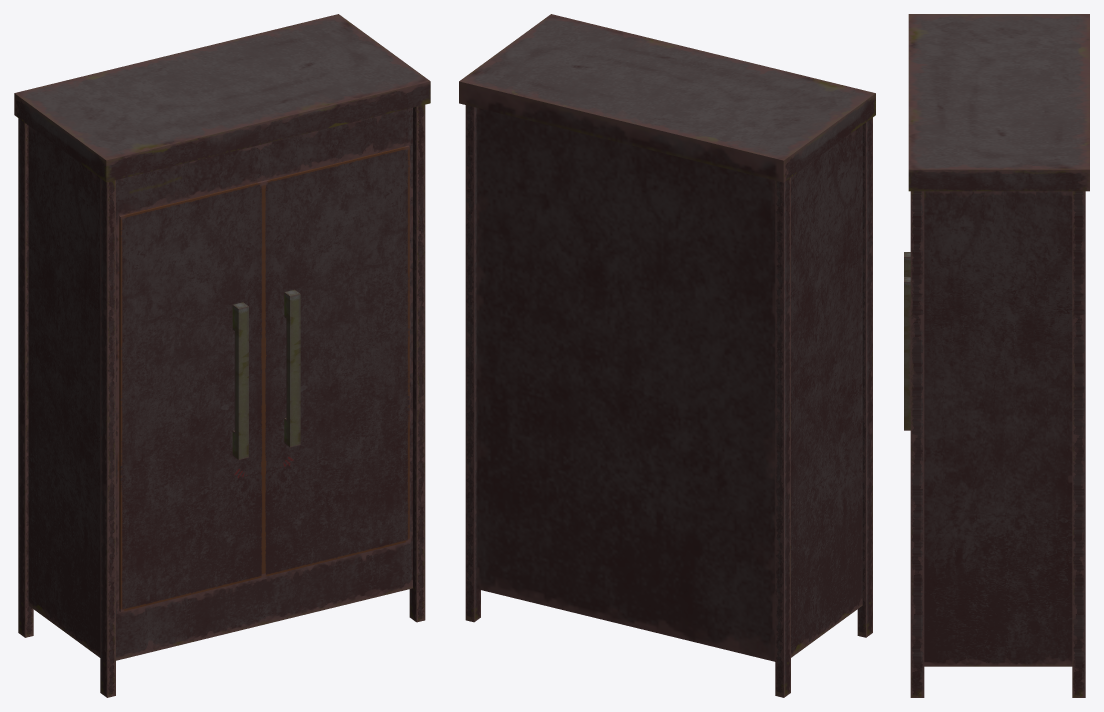
Rendered from closet.fbx.
3 views of the same model, side by side, from view 1: azimuth 30°, elevation 25°; view 2: azimuth 150°, elevation 25°; view 3: azimuth 270°, elevation 25° (orthographic).
Visible parts, largest first — view 1: main, door_light, door_left, pCube2, pCube3, pCube4, handle_light, handle_left1; view 2: main, pCube4, pCube5, pCube2; view 3: main, pCube3, pCube5, handle_left1.
Boxes of the visible parts, x1,y1,x2,y2 form: main: (14, 14, 430, 660); door_light: (263, 145, 409, 576); door_left: (119, 181, 263, 611); pCube2: (100, 178, 115, 697); pCube3: (409, 104, 425, 622); pCube4: (18, 118, 33, 637); handle_light: (232, 302, 248, 459); handle_left1: (284, 289, 300, 447); main: (459, 14, 875, 661); pCube4: (775, 177, 790, 697); pCube5: (465, 105, 480, 622); pCube2: (857, 117, 872, 637); main: (908, 14, 1089, 666); pCube3: (910, 191, 924, 697); pCube5: (1072, 191, 1085, 697); handle_left1: (904, 277, 910, 430).
Size of the model in its own units: 1.25 by 1.98 by 0.6274.
